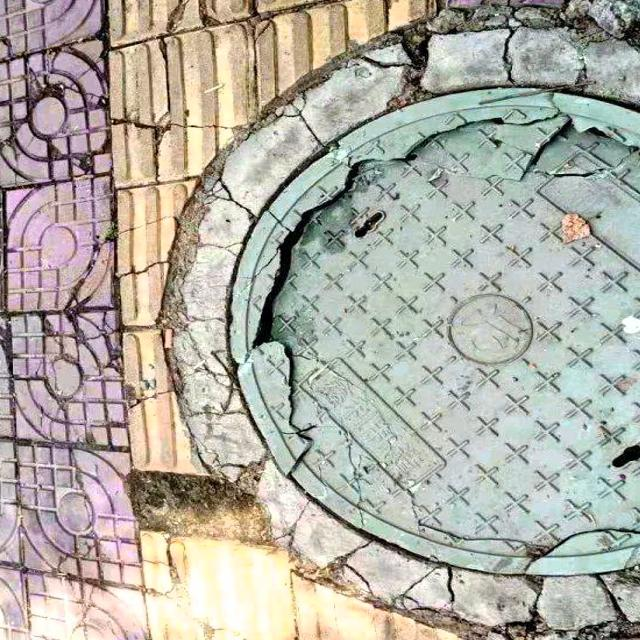circle: (144, 8, 640, 622)
